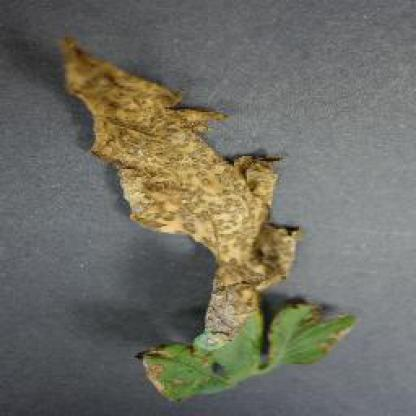bad leaf: (60, 32, 304, 298)
